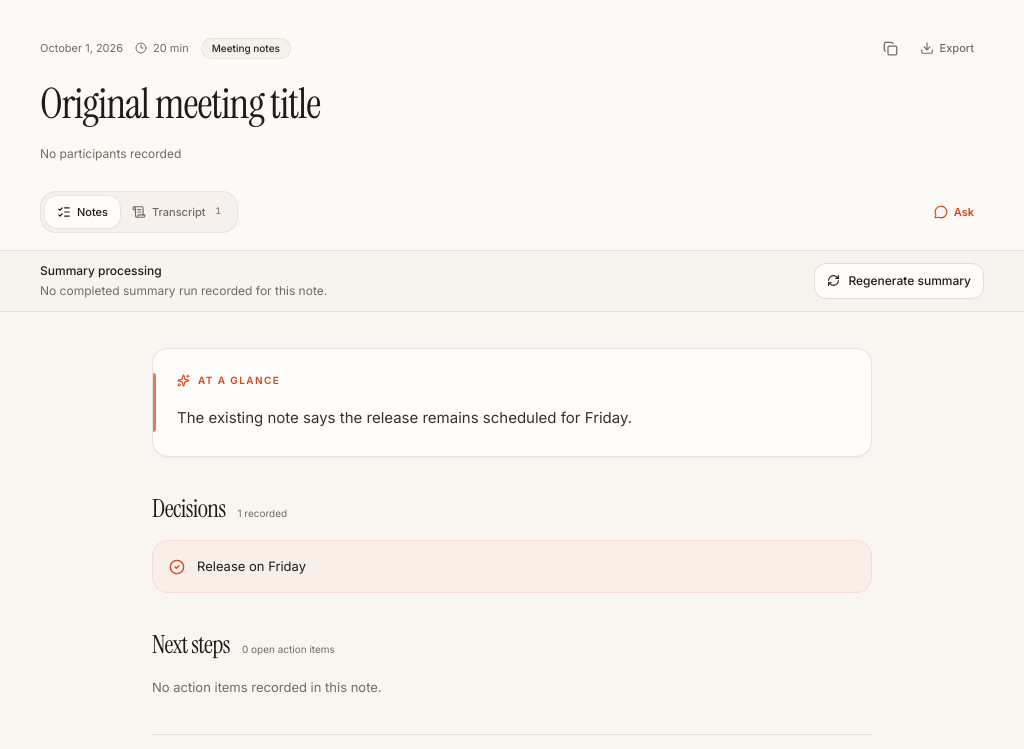
Test: summary destination review › preserves the displayed note after a failed attempt and refreshes its processing history
Expected: the text "The existing note says the release remains scheduled for Friday." is shown, [177,408,632,427]
Click the button "Regenerate summary": coordinates (899, 281) [814,263,984,299]
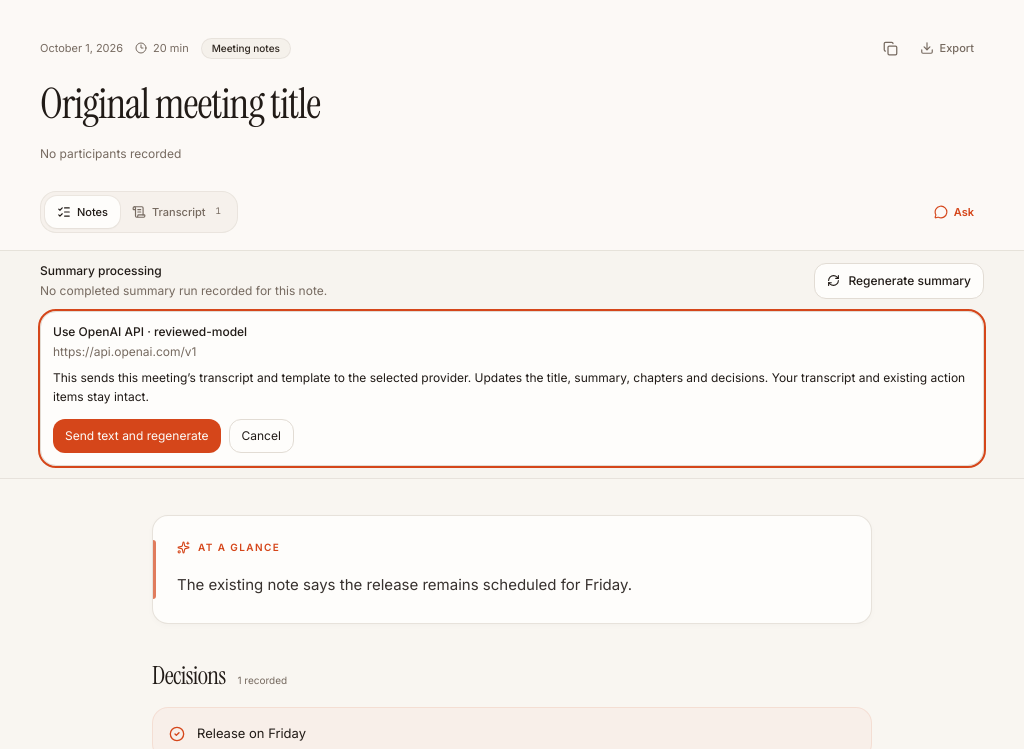
Click the button "Send text and regenerate": coordinates (137, 436) [53,419,220,453]
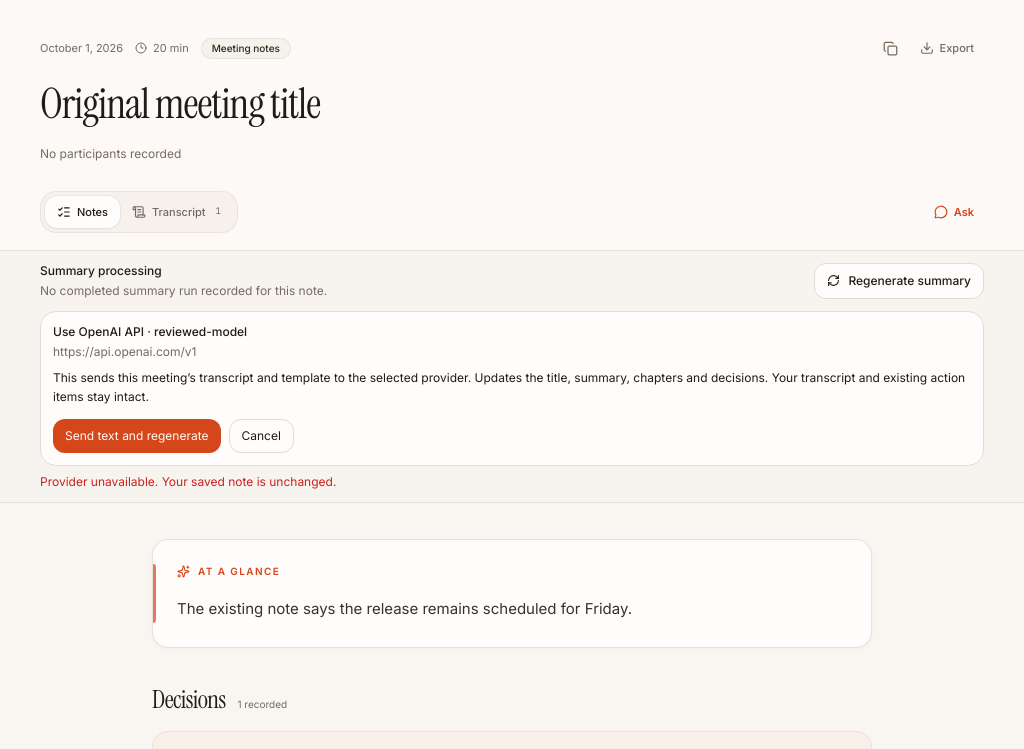
Expected: the text "The existing note says the release remains scheduled for Friday." is shown, [177,599,632,618]
Now the button "Send text and regenerate" is enabled
Now the message shows "Provider unavailable", box [40,474,336,489]
Click the button "Send text and regenerate": coordinates (137, 436) [53,419,220,453]
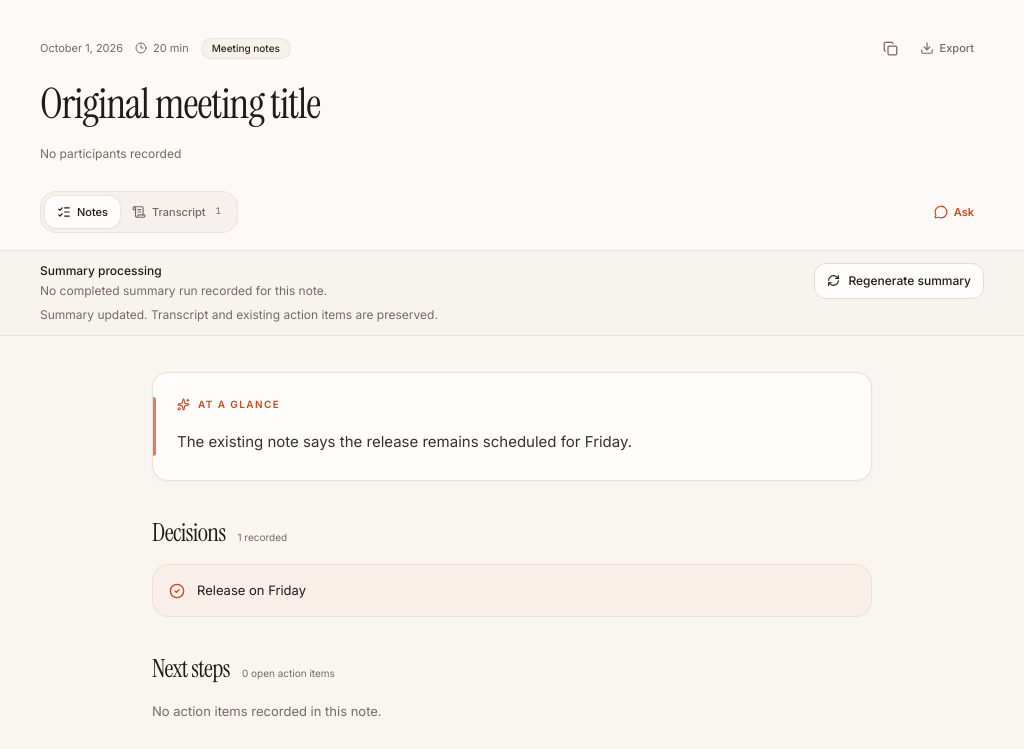
Now the message shows "Summary updated", box [40,307,438,322]
